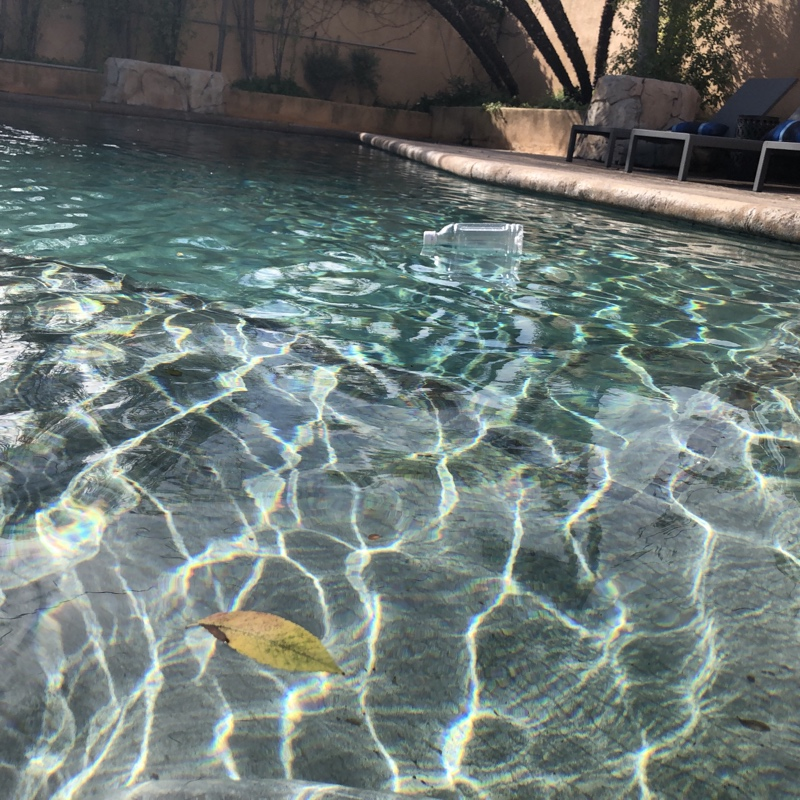Plastic Bottle: (419, 215, 526, 268)
